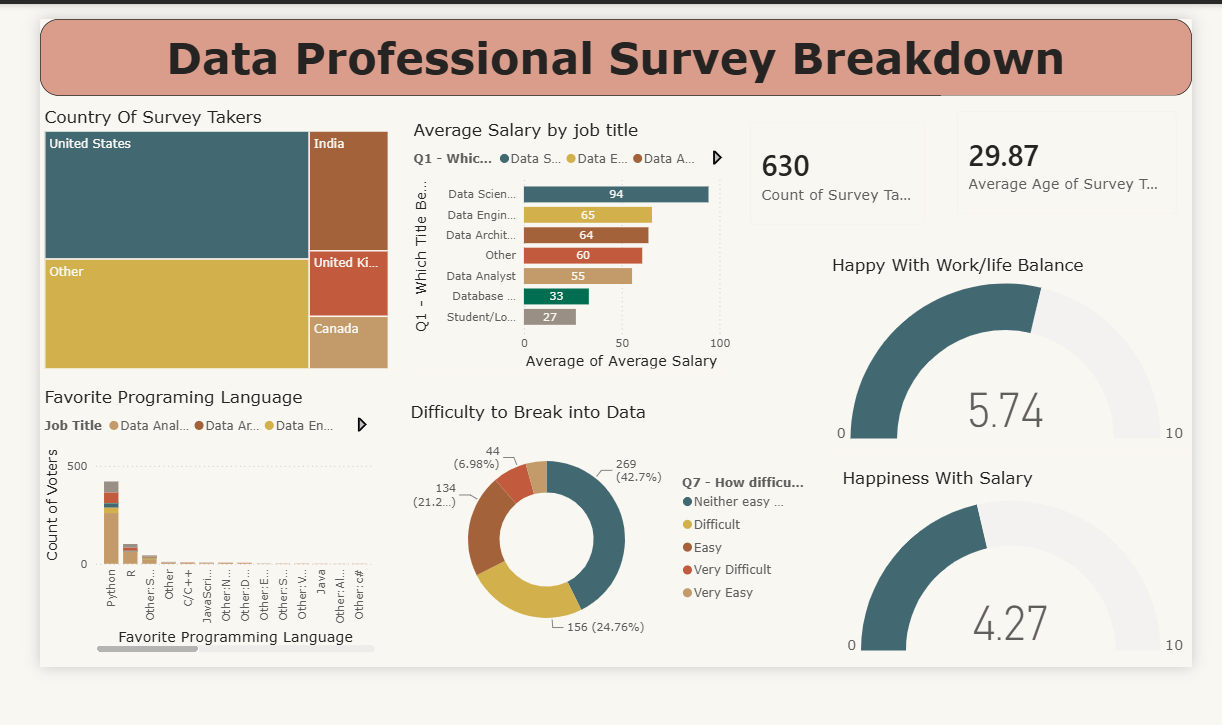

This screenshot's page, from the dashboard's own definition file:
{"tool":"powerbi","page":{"name":"Page 1","canvas":[1280,720],"ordinal":0},"visuals":[{"type":"textbox","box":[0,0,1280,85],"z":0},{"type":"cardVisual","fields":{"Data":["CountNonNull(Data Professional Survey.Unique ID)"]},"box":[771.8,96.1,230,149.6],"z":1000},{"type":"cardVisual","fields":{"Data":["Avg(Data Professional Survey.Q10 - Current Age)"]},"box":[1001.8,85.1,278.8,149.6],"z":2000},{"type":"barChart","title":"Average Salary by job title","fields":{"Category":["Data Professional Survey.Q1 - Which Title Best Fits your Current Role?.1"],"Y":["Avg(Data Professional Survey.Average Salary)"],"Series":["Data Professional Survey.Q1 - Which Title Best Fits your Current Role?.1"]},"box":[410,111.7,361.7,281.7],"z":3000},{"type":"columnChart","title":"Favorite Programing Language","fields":{"Category":["Data Professional Survey.Q5 - Favorite Programming Language"],"Y":["CountNonNull(Data Professional Survey.Unique ID)"],"Series":["Data Professional Survey.Q1 - Which Title Best Fits your Current Role?.1"]},"box":[0,408.3,376.7,300],"z":4000},{"type":"treemap","title":"Country Of Survey Takers","fields":{"Group":["Data Professional Survey.Q11 - Which Country do you live in?.1"],"Values":["CountNonNull(Data Professional Survey.Q11 - Which Country do you live in?.1)"]},"box":[0,96.7,391.7,296.7],"z":5000},{"type":"gauge","title":"Happy With Work/life Balance","fields":{"Y":["Avg(Data Professional Survey.Q6 - How Happy are you in your Current Position with the following? (Work/Life Balance))"],"MinValue":["Min(Data Professional Survey.Q6 - How Happy are you in your Current Position with the following? (Work/Life Balance))"],"MaxValue":["Max(Data Professional Survey.Q6 - How Happy are you in your Current Position with the following? (Work/Life Balance))"]},"box":[875,261.7,405,218.3],"z":6000},{"type":"gauge","title":"Happiness With Salary","fields":{"Y":["Avg(Data Professional Survey.Q6 - How Happy are you in your Current Position with the following? (Salary))"],"MinValue":["Min(Data Professional Survey.Q6 - How Happy are you in your Current Position with the following? (Salary))1"],"MaxValue":["Max(Data Professional Survey.Q6 - How Happy are you in your Current Position with the following? (Salary))2"]},"box":[886.7,498.3,393.3,221.7],"z":7000},{"type":"donutChart","title":"Difficulty to Break into Data ","fields":{"Category":["Data Professional Survey.Q7 - How difficult was it for you to break into Data?"],"Y":["CountNonNull(Data Professional Survey.Q7 - How difficult was it for you to break into Data?)"]},"box":[406.7,425,441.7,283.3],"z":8000}]}

Visuals, with their boxes on the page's 1280x720 design canvas (x1, y1, x2, y2). These are canvas units, not pixel positions in the 1222x725 screenshot, which may show the page scaled, cropped or inside an application window:
textbox: {"left": 0, "top": 0, "right": 1280, "bottom": 85}
cardVisual - CountNonNull(Data Professional Survey.Unique ID): {"left": 772, "top": 96, "right": 1002, "bottom": 246}
cardVisual - Avg(Data Professional Survey.Q10 - Current Age): {"left": 1002, "top": 85, "right": 1281, "bottom": 235}
"Average Salary by job title" barChart: {"left": 410, "top": 112, "right": 772, "bottom": 393}
"Favorite Programing Language" columnChart: {"left": 0, "top": 408, "right": 377, "bottom": 708}
"Country Of Survey Takers" treemap: {"left": 0, "top": 97, "right": 392, "bottom": 393}
"Happy With Work/life Balance" gauge: {"left": 875, "top": 262, "right": 1280, "bottom": 480}
"Happiness With Salary" gauge: {"left": 887, "top": 498, "right": 1280, "bottom": 720}
"Difficulty to Break into Data " donutChart: {"left": 407, "top": 425, "right": 848, "bottom": 708}
